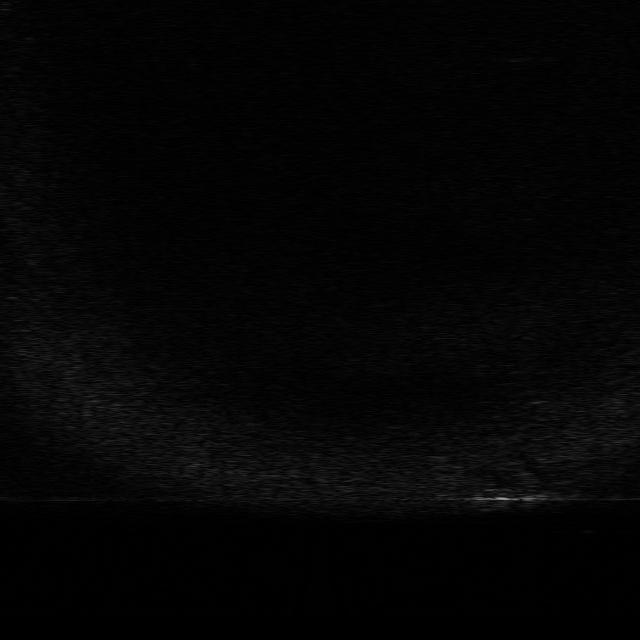plane: (466, 482, 570, 511)
